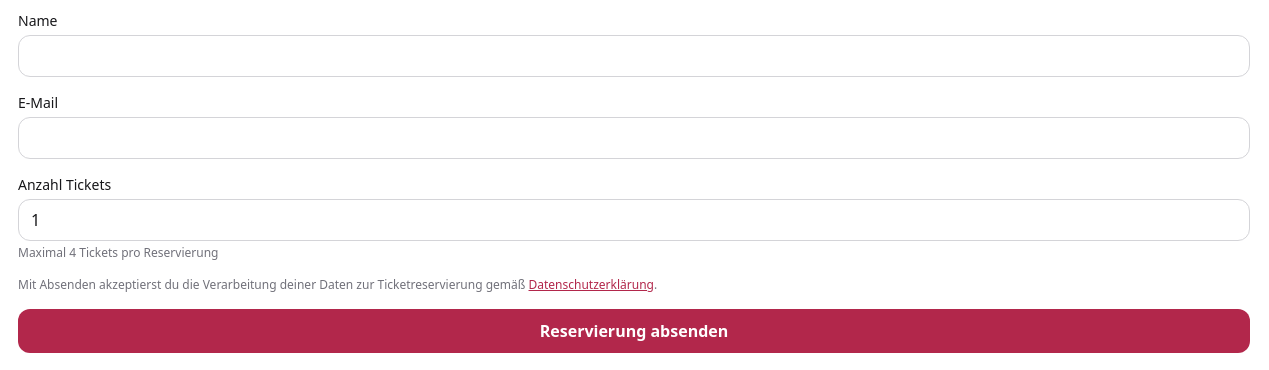
Test: ReservationForm › form submission › should show loading state during submission
In the field labelled "Name": (634,56) [18,35,1250,77], type "Max"
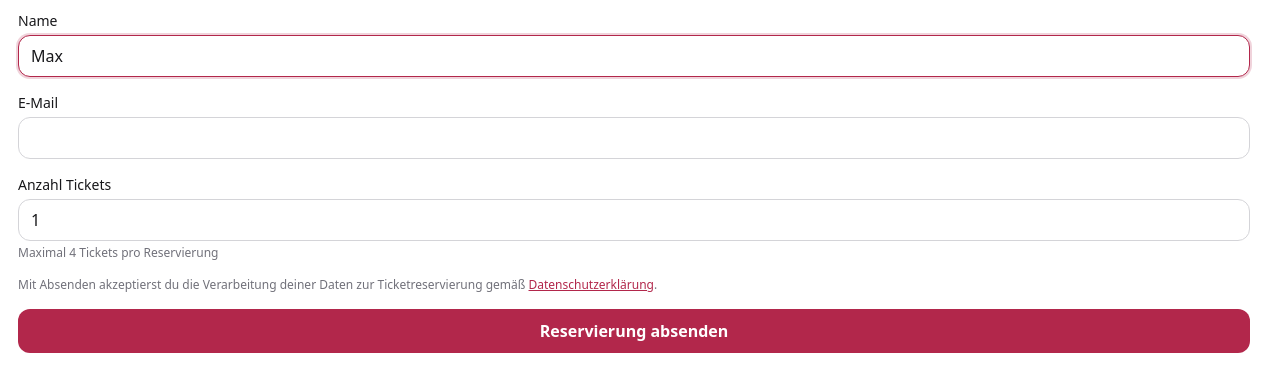
In the field labelled "E-Mail": (634,138) [18,117,1250,159], type "max@example.com"
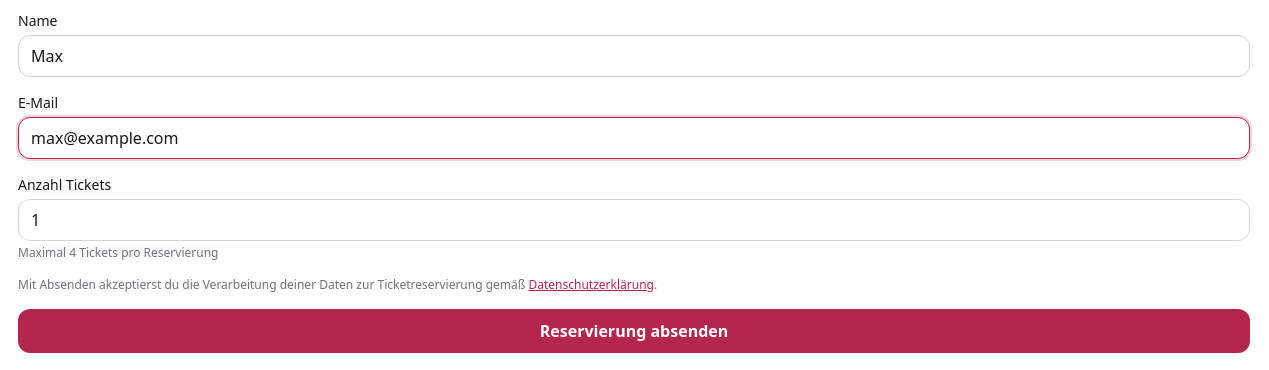
Click the button "Reservierung absenden": (634,331) [18,309,1250,353]
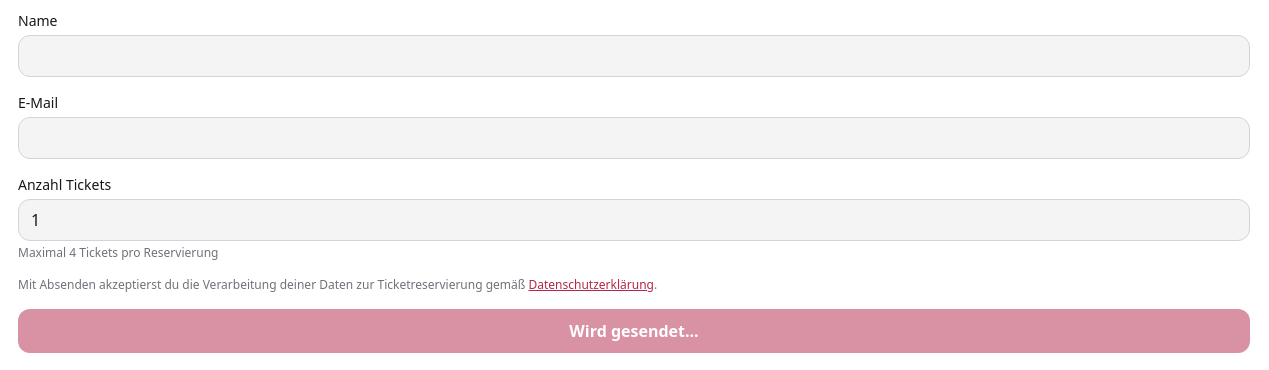
Result: the button is disabled at [18,309,1250,353]
